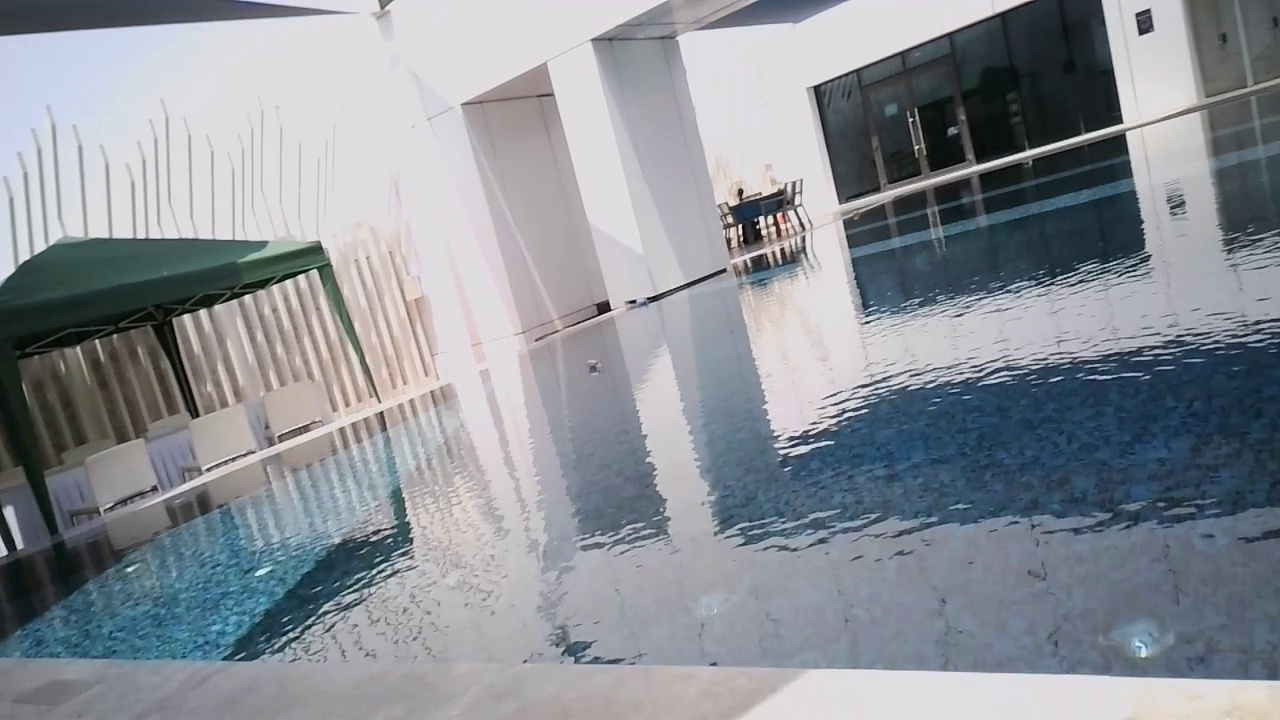debris: (578, 356, 606, 379), (632, 294, 652, 308), (1021, 155, 1033, 168), (850, 211, 862, 222)
